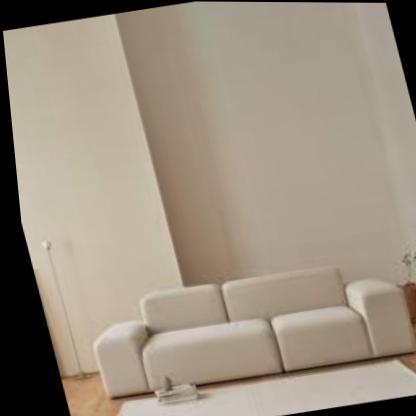Sofa: (53, 237, 416, 416)
